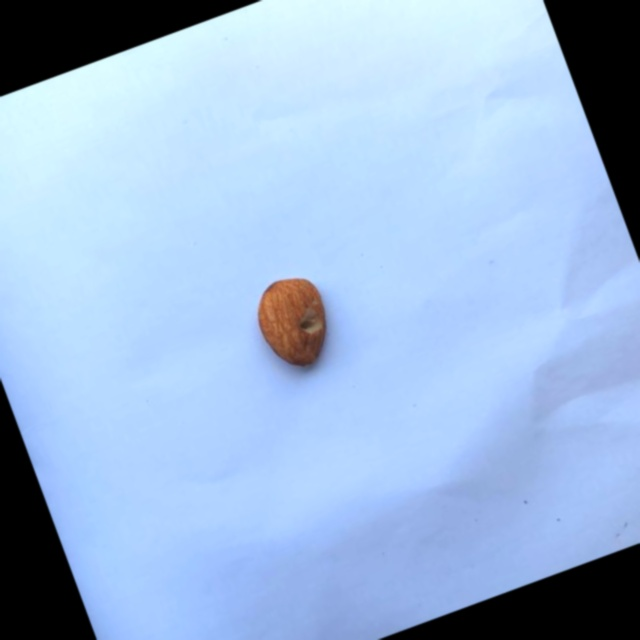grade3: (244, 263, 348, 382)
